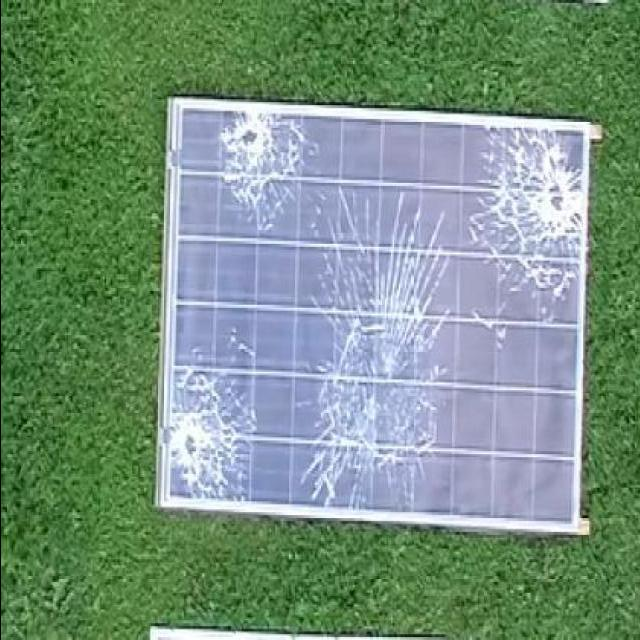cracked: (152, 94, 600, 554)
